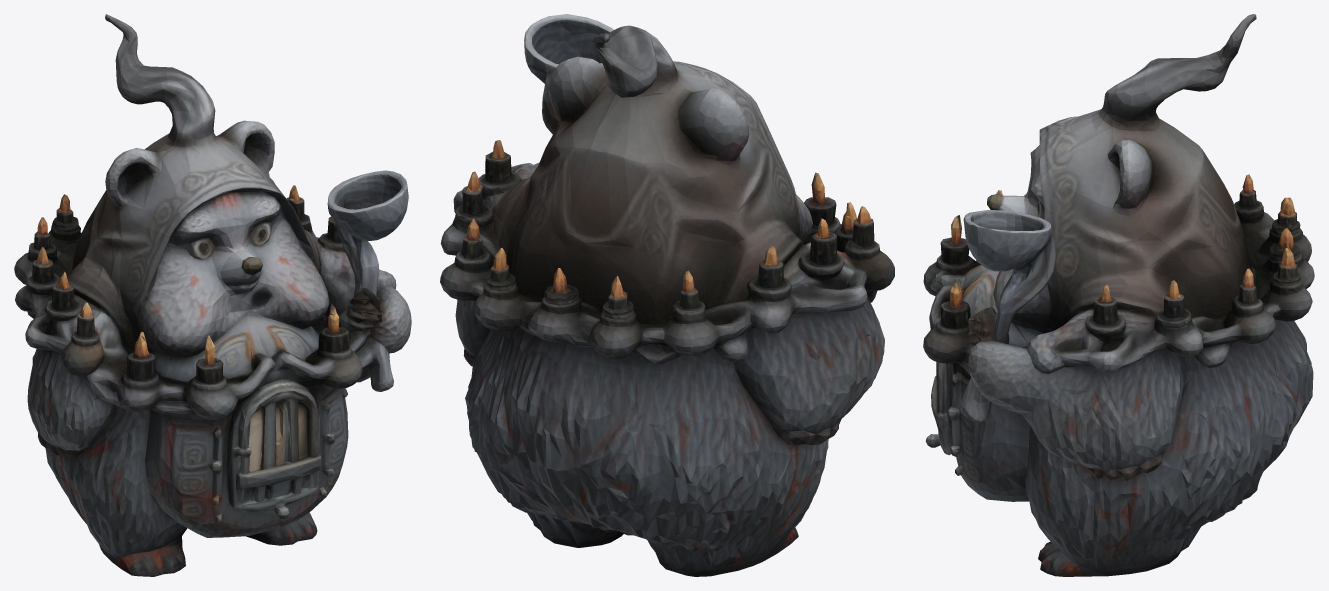
Rendered from hearthkin__ashHearthSpirit.glb.
3 views of the same model, side by side, from view 1: azimuth 30°, elevation 25°; view 2: azimuth 150°, elevation 25°; view 3: azimuth 270°, elevation 25° (orthographic). The views are drawn at different scales.
Parts seen in each view (by area): view 1: world; view 2: world; view 3: world.
Part boxes in pixels (left/top/right/bottom): world: left=14, top=14, right=411, bottom=576; world: left=440, top=14, right=894, bottom=576; world: left=923, top=14, right=1314, bottom=576.
Size of the model in its own units: 0.7615 by 1 by 0.7074.
1 material, 1 textured.
